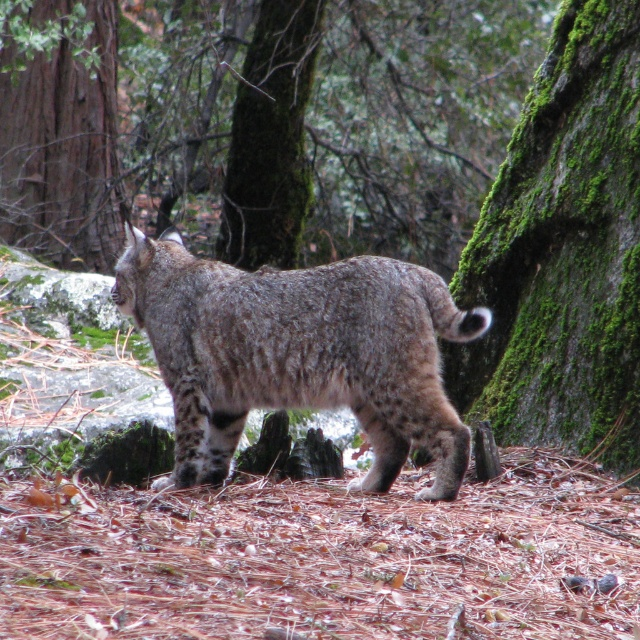Lynx: (109, 218, 493, 495)
